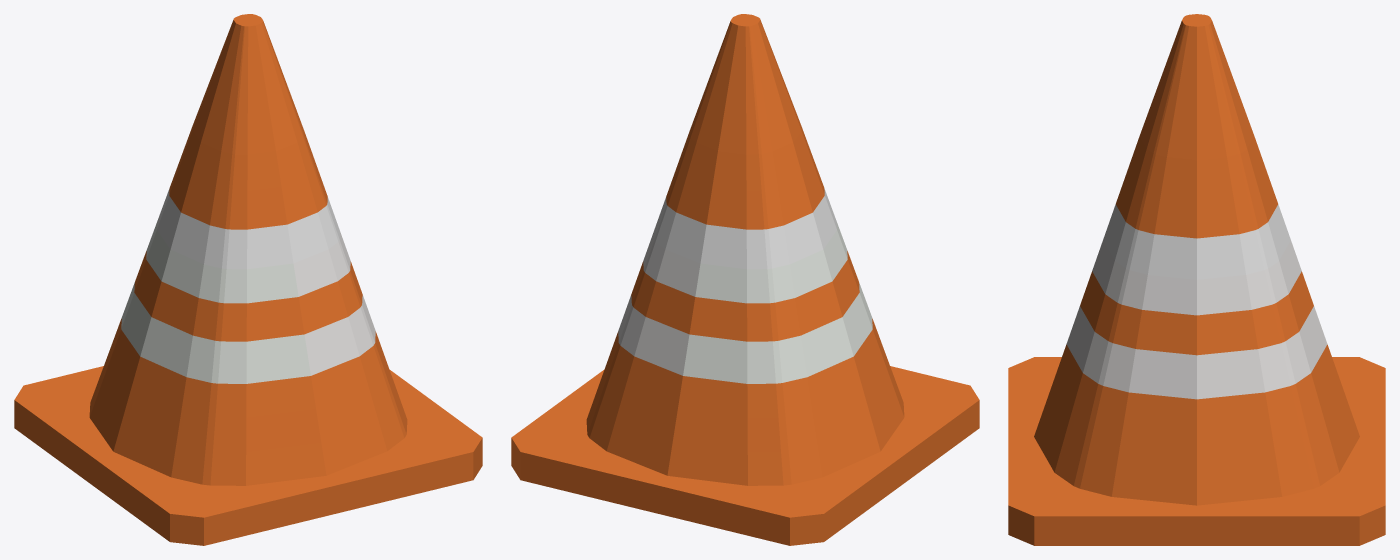
The model's file is untitled.blend cone de rua conc.fbx.
3 views of the same model, side by side, from view 1: azimuth 30°, elevation 25°; view 2: azimuth 150°, elevation 25°; view 3: azimuth 270°, elevation 25° (orthographic). The views are drawn at different scales.
Visible parts, largest first — view 1: Plano; view 2: Plano; view 3: Plano.
Part boxes in pixels (x1,y1,x2,y2): Plano: [14, 14, 482, 545]; Plano: [511, 14, 979, 545]; Plano: [1008, 14, 1385, 545].
Bounding box in the file's own units: 200 × 261 × 200.
